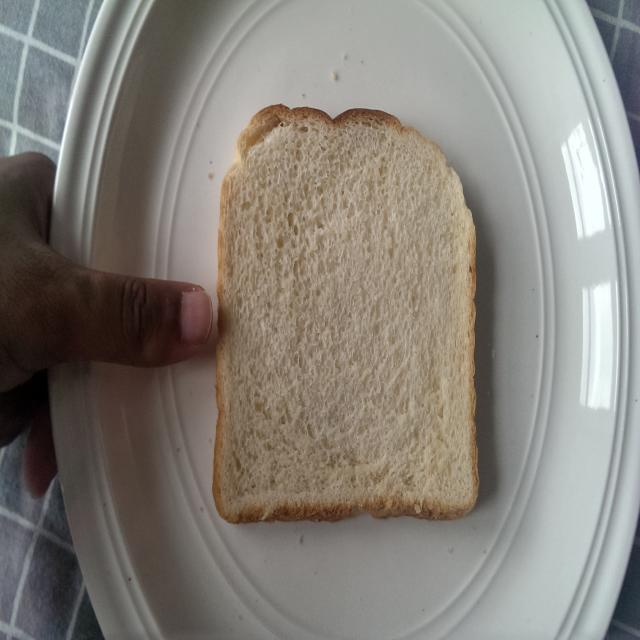Bread: (210, 92, 486, 532)
Finger: (110, 266, 214, 373)
